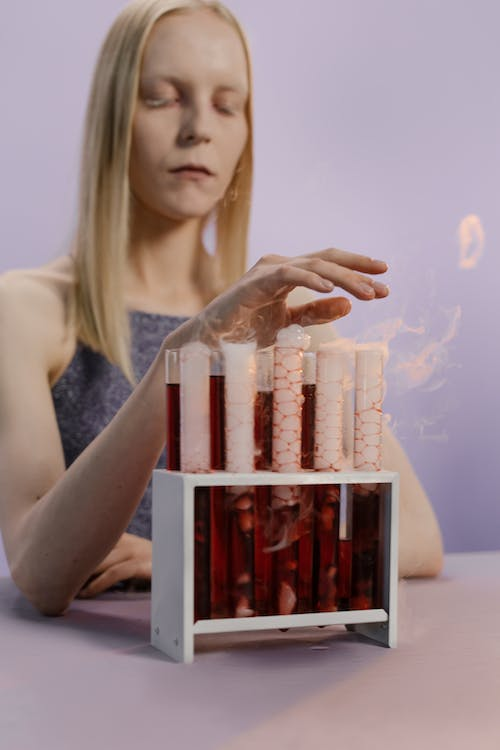blood: (347, 483, 382, 611), (310, 483, 340, 614), (227, 491, 257, 619), (268, 502, 301, 615), (211, 374, 226, 618), (257, 388, 272, 617), (301, 382, 315, 612), (193, 487, 214, 621), (164, 380, 181, 471), (339, 538, 347, 611)
